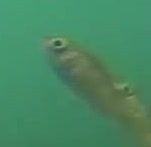smallfish: (42, 31, 151, 126)
